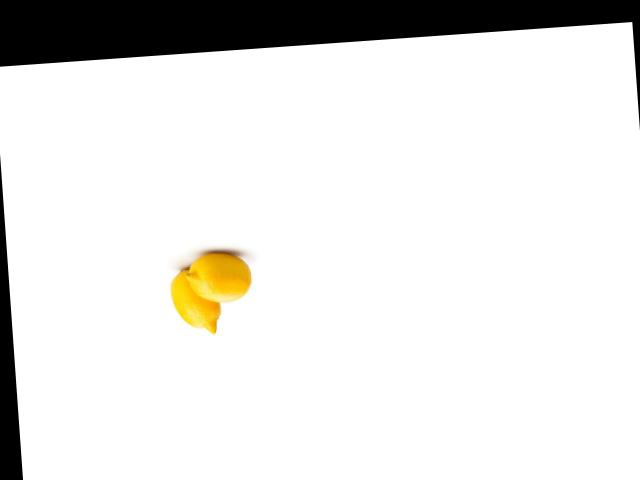lemon: (184, 242, 256, 310)
